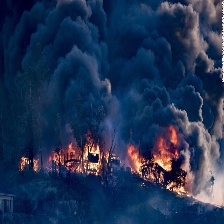fire: (17, 130, 198, 199)
smoke: (8, 1, 221, 138)
